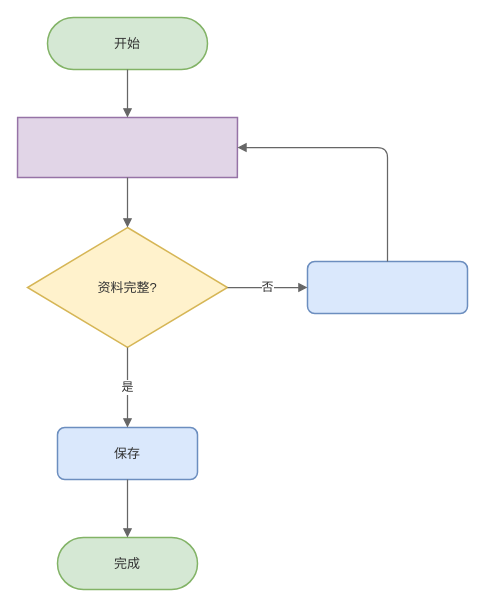
Some shapes in this 486 by 608 pixel diagram are drawn without their labels. The centre of each missing label's shape, as x and y in pixels:
"填写资料" goes at pixel 127 147.
"补充资料" goes at pixel 387 287.
